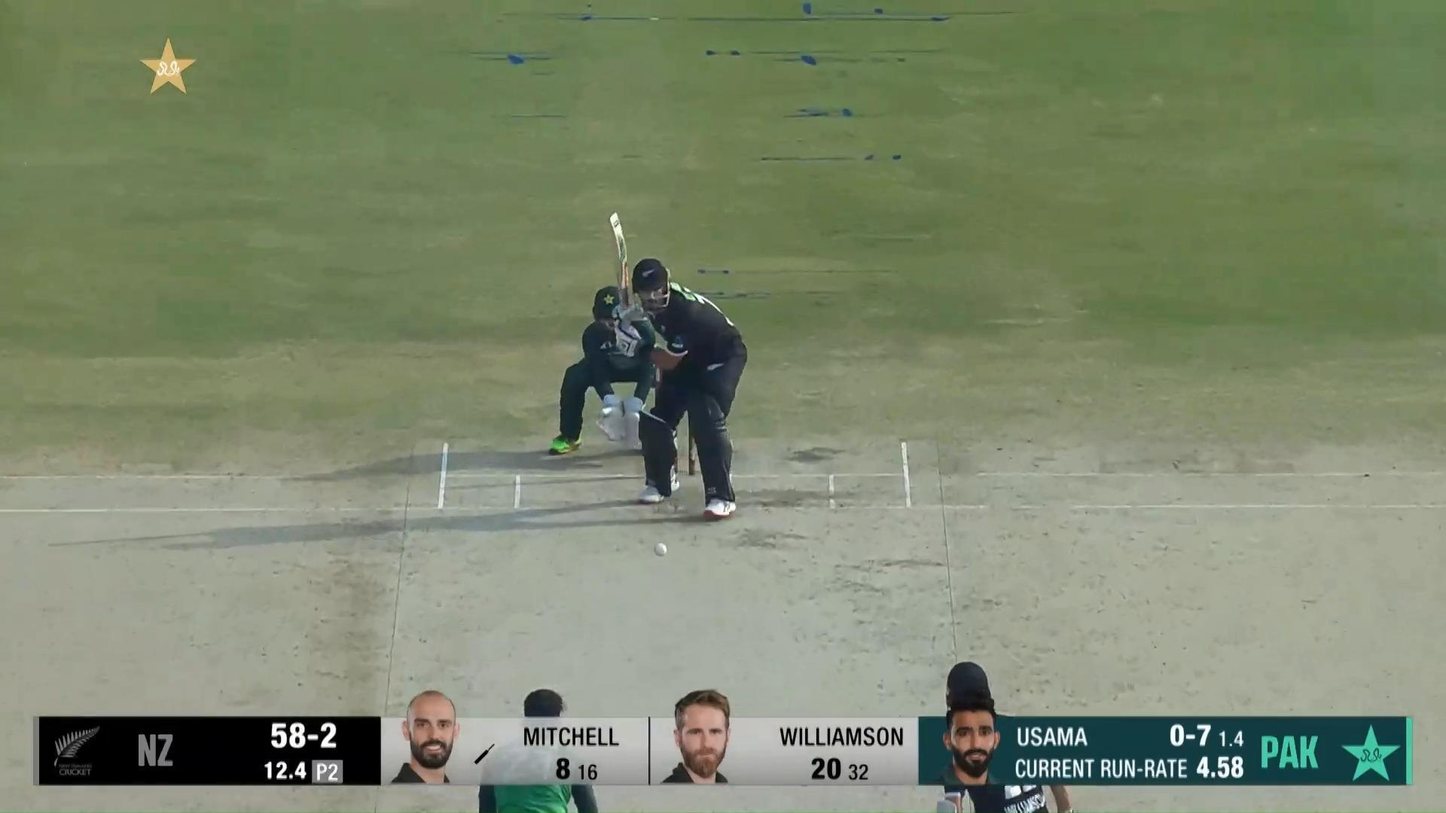BM 1: (609, 212, 748, 519)
BO: (478, 688, 600, 813)
